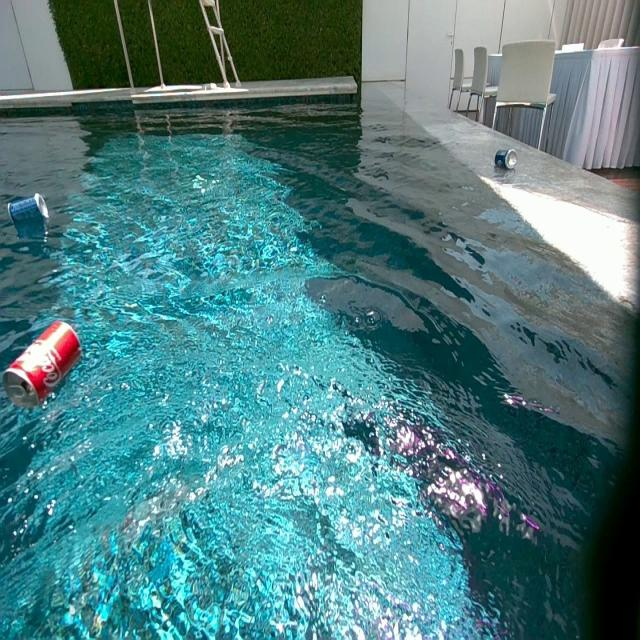Cans: (1, 317, 81, 408), (8, 194, 46, 228), (495, 148, 516, 170)
